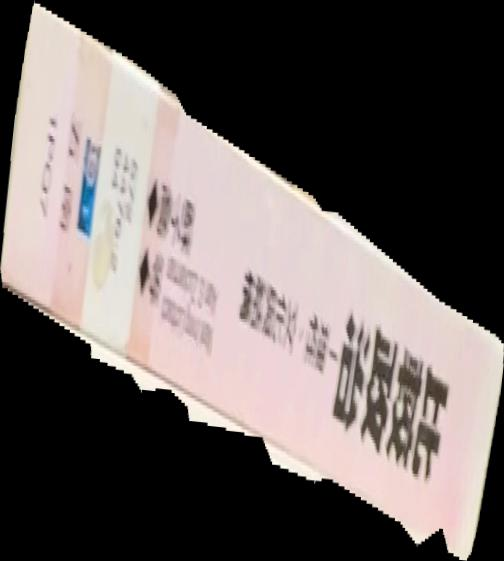flat: (1, 1, 504, 561)
